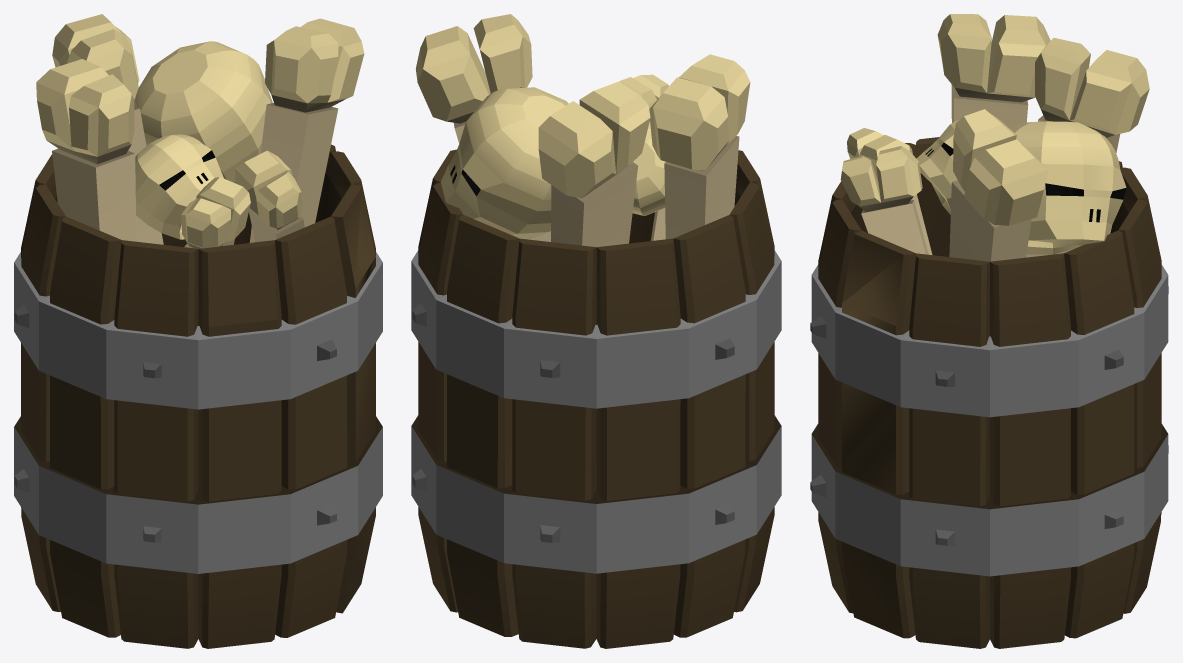
File: barrEsq1.fbx
3 views of the same model, side by side, from view 1: azimuth 30°, elevation 25°; view 2: azimuth 150°, elevation 25°; view 3: azimuth 270°, elevation 25° (orthographic). The views are drawn at different scales.
Parts seen in each view (by area): view 1: Madera, Anilla_Arriba, Anilla_Abajo, Hueso1, Hueso2, Cabeza_Parte_Arriba1, Cabeza_Parte_Arriba2, Hueso5, Hueso4, Hueso3; view 2: Madera, Anilla_Arriba, Anilla_Abajo, Hueso5, Hueso1, Cabeza_Parte_Arriba1, Hueso2, Cabeza_Parte_Arriba2, Hueso4; view 3: Madera, Anilla_Arriba, Anilla_Abajo, Hueso2, Cabeza_Parte_Arriba1, Hueso1, Hueso5, Hueso4, Cabeza_Parte_Arriba2, Hueso3.
Part boxes in pixels (x1,y1,x2,y2): Madera: [21, 144, 375, 648]; Anilla_Arriba: [14, 252, 382, 409]; Anilla_Abajo: [14, 416, 382, 573]; Hueso1: [36, 59, 136, 241]; Hueso2: [249, 18, 364, 242]; Cabeza_Parte_Arriba1: [134, 41, 272, 183]; Cabeza_Parte_Arriba2: [135, 134, 223, 239]; Hueso5: [52, 14, 163, 244]; Hueso4: [235, 150, 304, 242]; Hueso3: [181, 177, 250, 248]; Madera: [418, 149, 774, 648]; Anilla_Arriba: [411, 250, 781, 408]; Anilla_Abajo: [411, 415, 781, 573]; Hueso5: [538, 81, 650, 247]; Hueso1: [649, 54, 750, 239]; Cabeza_Parte_Arriba1: [440, 87, 568, 239]; Hueso2: [416, 14, 550, 241]; Cabeza_Parte_Arriba2: [632, 121, 665, 215]; Hueso4: [619, 74, 668, 108]; Madera: [818, 137, 1161, 648]; Anilla_Arriba: [810, 264, 1168, 417]; Anilla_Abajo: [810, 424, 1168, 576]; Hueso2: [949, 109, 1048, 261]; Cabeza_Parte_Arriba1: [1010, 121, 1126, 254]; Hueso1: [937, 14, 1050, 128]; Hueso5: [1026, 38, 1149, 257]; Hueso4: [840, 146, 928, 254]; Cabeza_Parte_Arriba2: [916, 120, 958, 214]; Hueso3: [847, 128, 932, 254].
Size of the model in its own units: 3.01 by 4.66 by 2.94.
